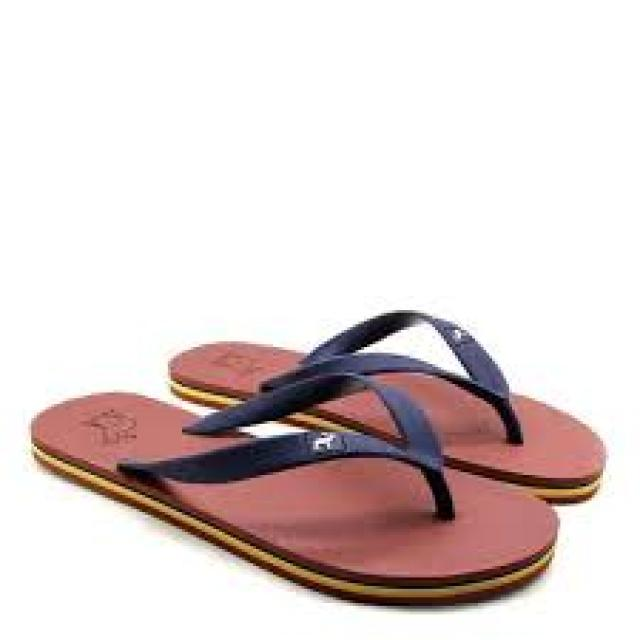Sandals: (20, 286, 634, 617)
